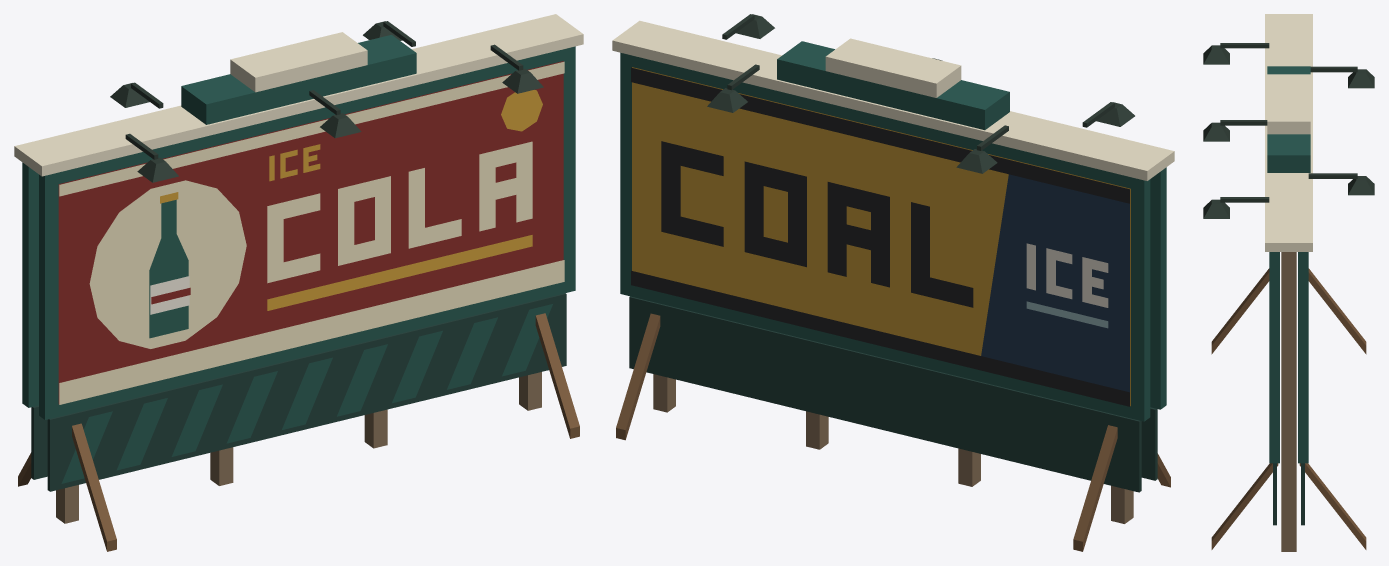
Rendered from billboard_b.glb.
3 views of the same model, side by side, from view 1: azimuth 30°, elevation 25°; view 2: azimuth 150°, elevation 25°; view 3: azimuth 270°, elevation 25° (orthographic). The views are drawn at different scales.
Parts seen in each view (by area): view 1: billboard_b; view 2: billboard_b; view 3: billboard_b.
Part boxes in pixels (x1,y1,x2,y2): billboard_b: [14, 14, 583, 551]; billboard_b: [612, 14, 1174, 551]; billboard_b: [1203, 14, 1374, 551].
Bounding box in the file's own units: 7.72 × 5.55 × 2.44.
